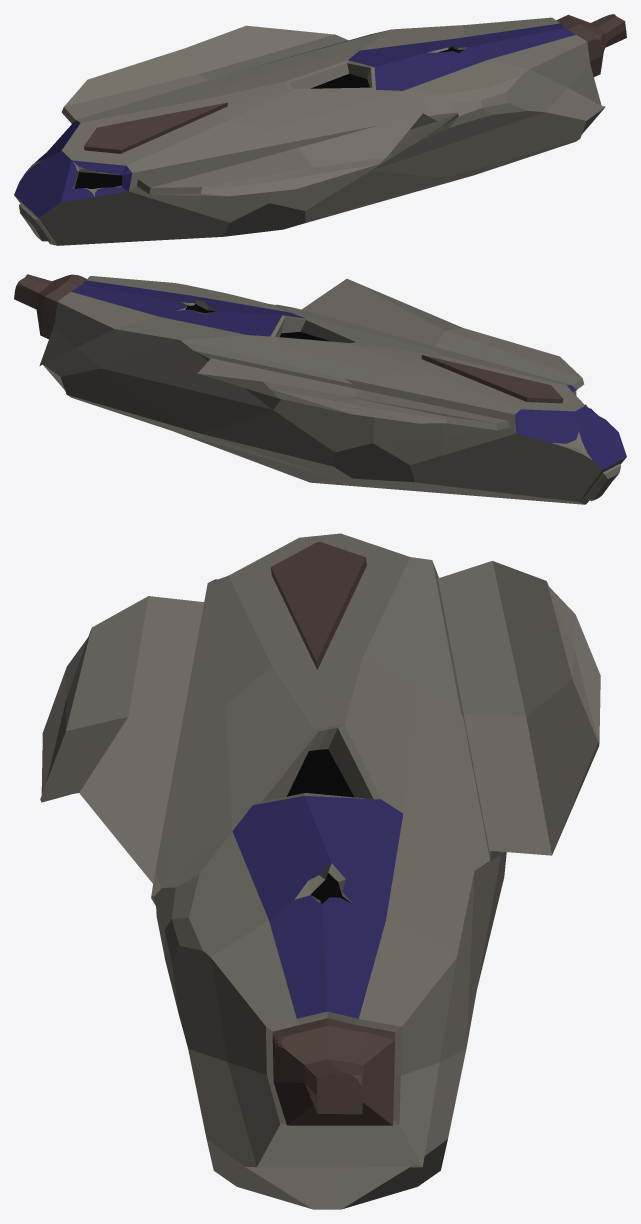
File: SubWreck.fbx
3 renders of one model, top to bottom at view 1: azimuth 30°, elevation 25°; view 2: azimuth 150°, elevation 25°; view 3: azimuth 270°, elevation 25°, orthographic. The views are drawn at different scales.
Visible parts, largest first — view 1: SubWreck; view 2: SubWreck; view 3: SubWreck.
Part boxes in pixels (x1,y1,x2,y2): SubWreck: [14, 14, 626, 245]; SubWreck: [14, 274, 626, 504]; SubWreck: [40, 533, 600, 1209].
Bounding box in the file's own units: 2540 × 612 × 1040.
